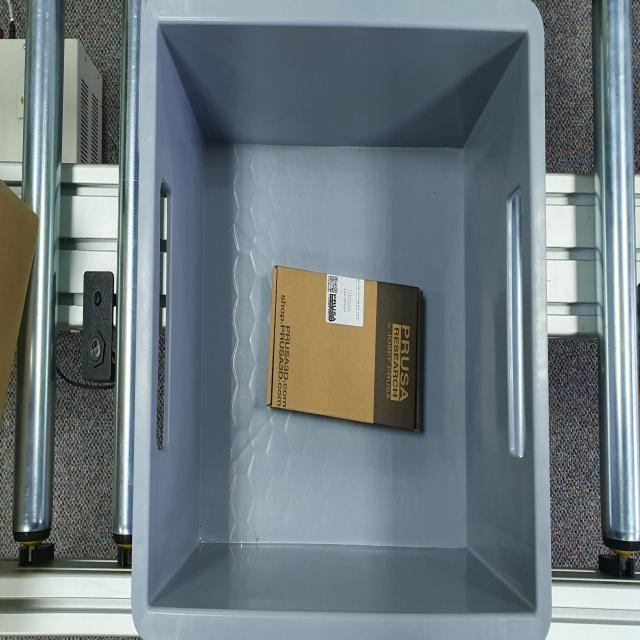box: (269, 264, 421, 434)
